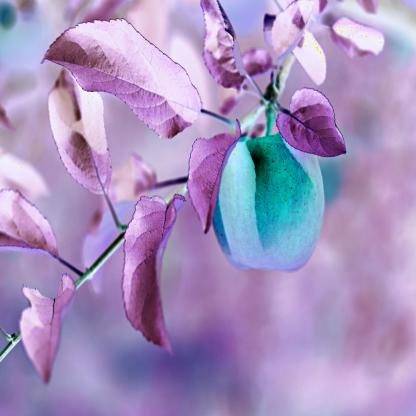apple leaf: (35, 17, 216, 132), (118, 186, 190, 365), (45, 70, 119, 206), (15, 268, 79, 389), (186, 118, 248, 239), (267, 83, 358, 163)
